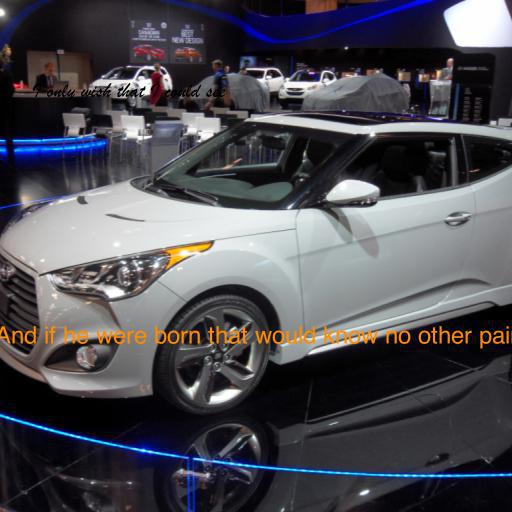Big Caslon: (0, 326, 512, 349)
Brush Script MT: (31, 82, 225, 102)
